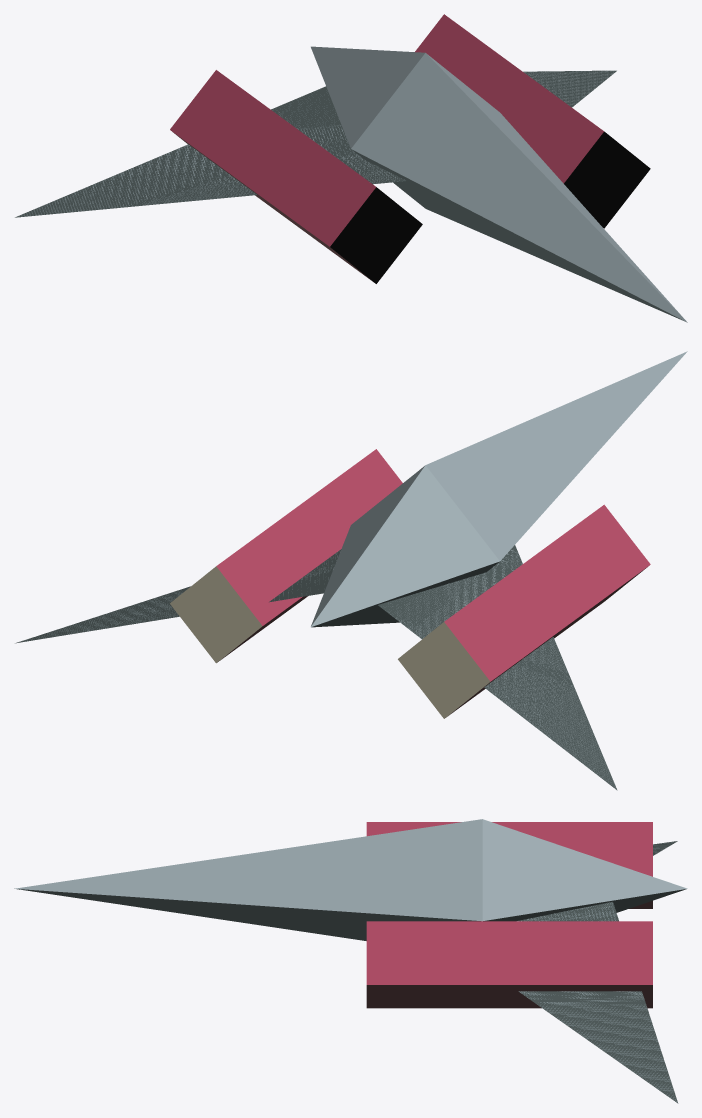
File: ship.gltf
The picture shows the model from 3 angles, top to bottom: view 1: azimuth 30°, elevation 25°; view 2: azimuth 150°, elevation 25°; view 3: azimuth 270°, elevation 25°; orthographic projection. The views are drawn at different scales.
Parts seen in each view (by area): view 1: Ship; view 2: Ship; view 3: Ship.
Boxes of the visible parts, x1,y1,x2,y2 form: Ship: [15, 14, 687, 322]; Ship: [15, 351, 687, 790]; Ship: [14, 819, 687, 1103].
Size of the model in its own units: 0.9604 by 0.2611 by 1.04.
1 material, 1 textured.
